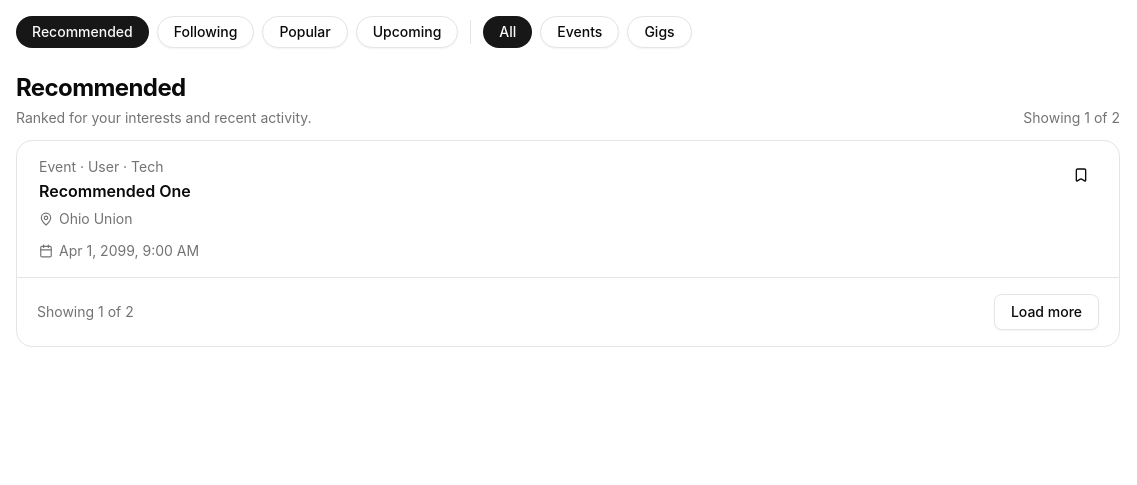
[phase:6] [regression:always] FeaturedPage › TC-FEED-014: load more appends only recommended items
Expected: the heading "Recommended One" is shown, [39,181,191,201]
Click the button "Load more": click(1046, 312) [994,294,1099,330]
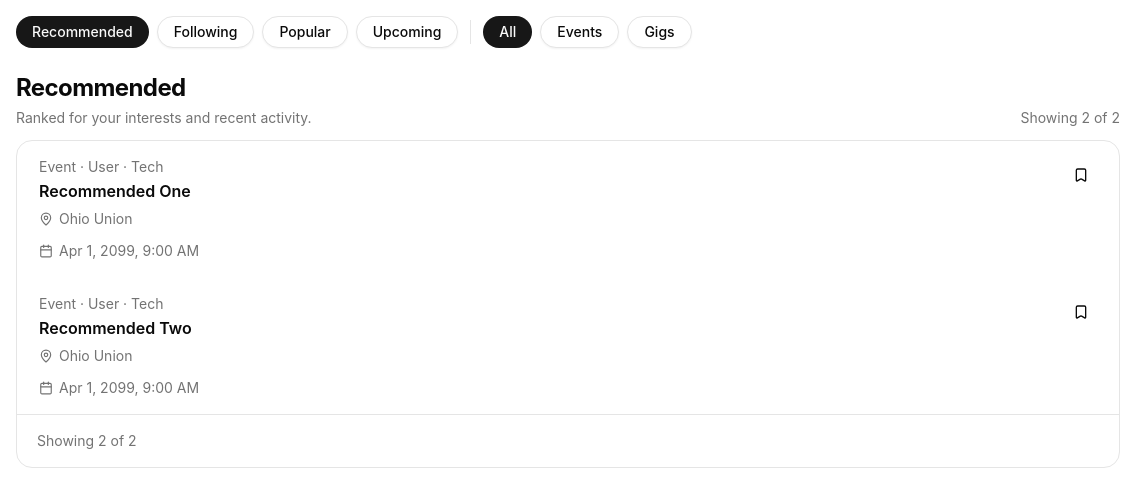
Result: the heading "Recommended Two" is shown at [39,318,192,338]
